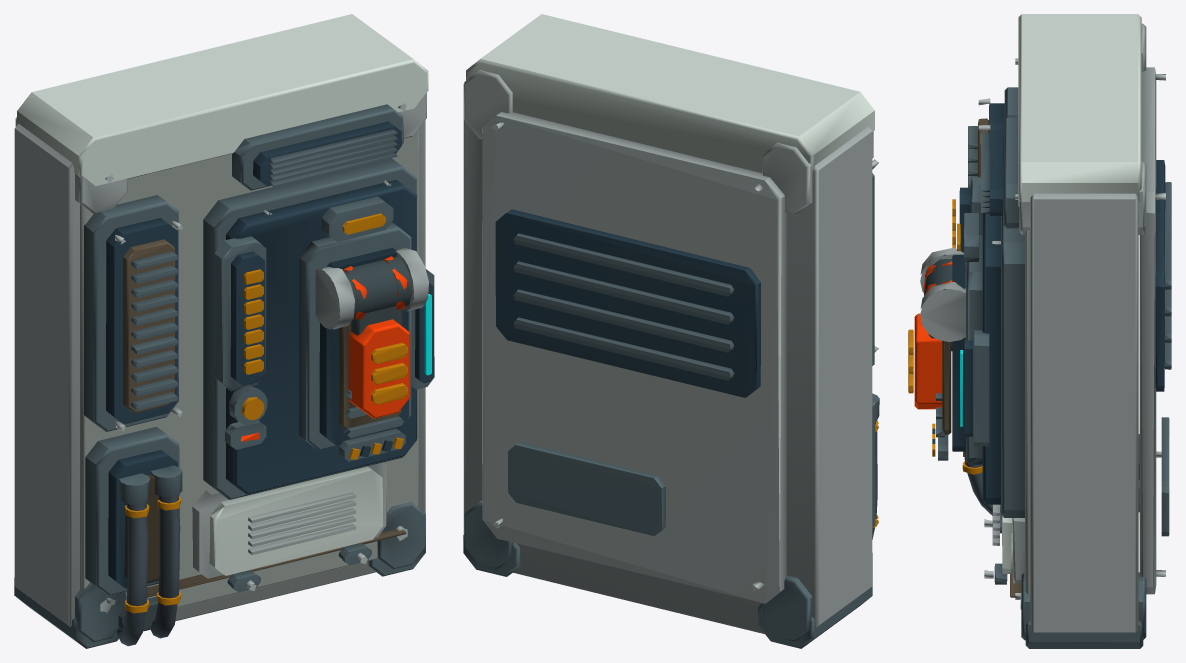
The model's file is armoire-electrique.glb.
3 views of the same model, side by side, from view 1: azimuth 30°, elevation 25°; view 2: azimuth 150°, elevation 25°; view 3: azimuth 270°, elevation 25° (orthographic). The views are drawn at different scales.
Visible parts, largest first — view 1: corps__gris_clair2, corps__cyan_fonce, corps__gris_clair, corps__bleu_nuit, corps__brun, corps__bleu_nuit2, corps__orange, amber_breaker_lever__lum_orange, amber_breaker_lever__orange, corps__gris_clair3, amber_breaker_lever__cyan_fonce, corps__lum_orange (+1 smaller); view 2: corps__gris_clair, corps__gris_clair2, corps__cyan_fonce, corps__bleu_nuit; view 3: corps__gris_clair, corps__gris_clair2, corps__cyan_fonce, corps__bleu_nuit, amber_breaker_lever__lum_orange, corps__brun, corps__gris_clair3, corps__orange, corps__bleu_nuit2.
Part boxes in pixels (x1=…): corps__gris_clair2: x1=17, y1=14, x2=428, y2=607; corps__cyan_fonce: x1=14, y1=104, x2=434, y2=648; corps__gris_clair: x1=14, y1=93, x2=428, y2=626; corps__bleu_nuit: x1=106, y1=121, x2=433, y2=631; corps__brun: x1=123, y1=239, x2=406, y2=597; corps__bleu_nuit2: x1=116, y1=495, x2=180, y2=646; corps__orange: x1=125, y1=213, x2=403, y2=613; amber_breaker_lever__lum_orange: x1=348, y1=319, x2=410, y2=418; amber_breaker_lever__orange: x1=371, y1=342, x2=407, y2=404; corps__gris_clair3: x1=100, y1=103, x2=407, y2=612; amber_breaker_lever__cyan_fonce: x1=351, y1=306, x2=400, y2=335; corps__lum_orange: x1=240, y1=256, x2=407, y2=441; corps__gris_clair: x1=463, y1=70, x2=873, y2=633; corps__gris_clair2: x1=466, y1=14, x2=874, y2=175; corps__cyan_fonce: x1=463, y1=173, x2=879, y2=648; corps__bleu_nuit: x1=495, y1=209, x2=760, y2=397; corps__gris_clair: x1=920, y1=23, x2=1156, y2=632; corps__gris_clair2: x1=1002, y1=14, x2=1141, y2=594; corps__cyan_fonce: x1=924, y1=87, x2=1171, y2=648; corps__bleu_nuit: x1=932, y1=103, x2=1165, y2=504; amber_breaker_lever__lum_orange: x1=914, y1=313, x2=942, y2=409; corps__brun: x1=942, y1=118, x2=1021, y2=597; corps__gris_clair3: x1=978, y1=58, x2=1165, y2=609; corps__orange: x1=932, y1=199, x2=982, y2=474; corps__bleu_nuit2: x1=964, y1=436, x2=1000, y2=515.
Size of the model in its own units: 1.45 by 2 by 0.9824.
